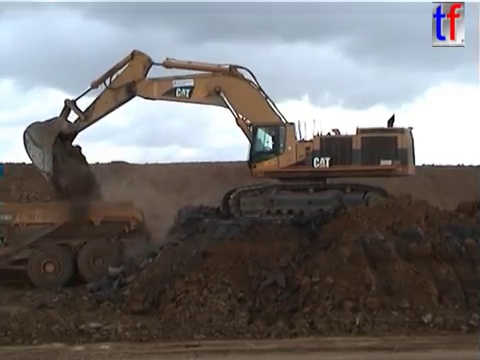excavator: (19, 46, 418, 228)
truck: (1, 200, 146, 290)
